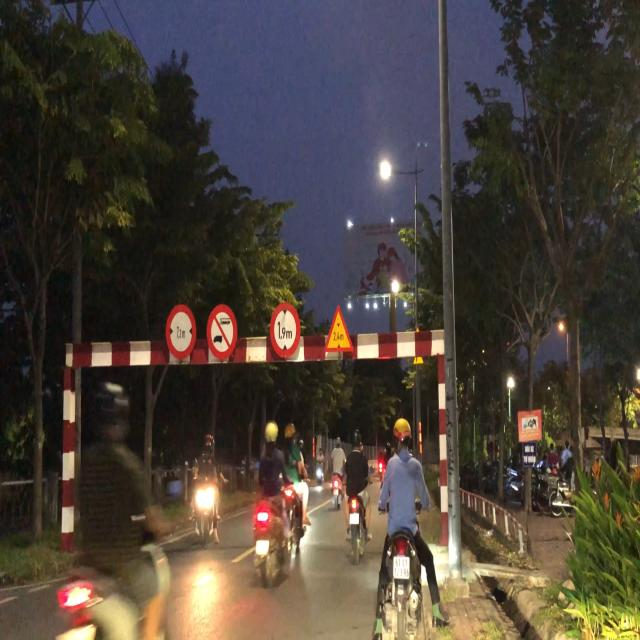Bien bao cam xe oto khach va xe oto tai: (205, 298, 239, 362)
Bien bao chieu cao tinh khong thuc te: (323, 306, 354, 362)
Bien bao han che chieu cao: (266, 297, 306, 365)
